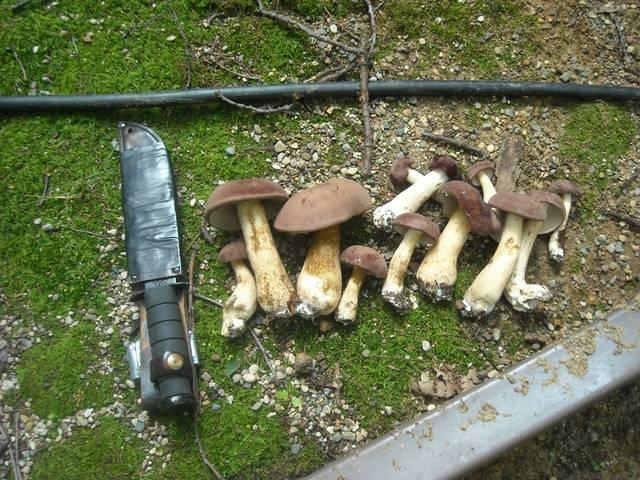poisonous_mushroom: (376, 145, 586, 327), (273, 176, 373, 319), (203, 176, 296, 323), (334, 243, 387, 325)
